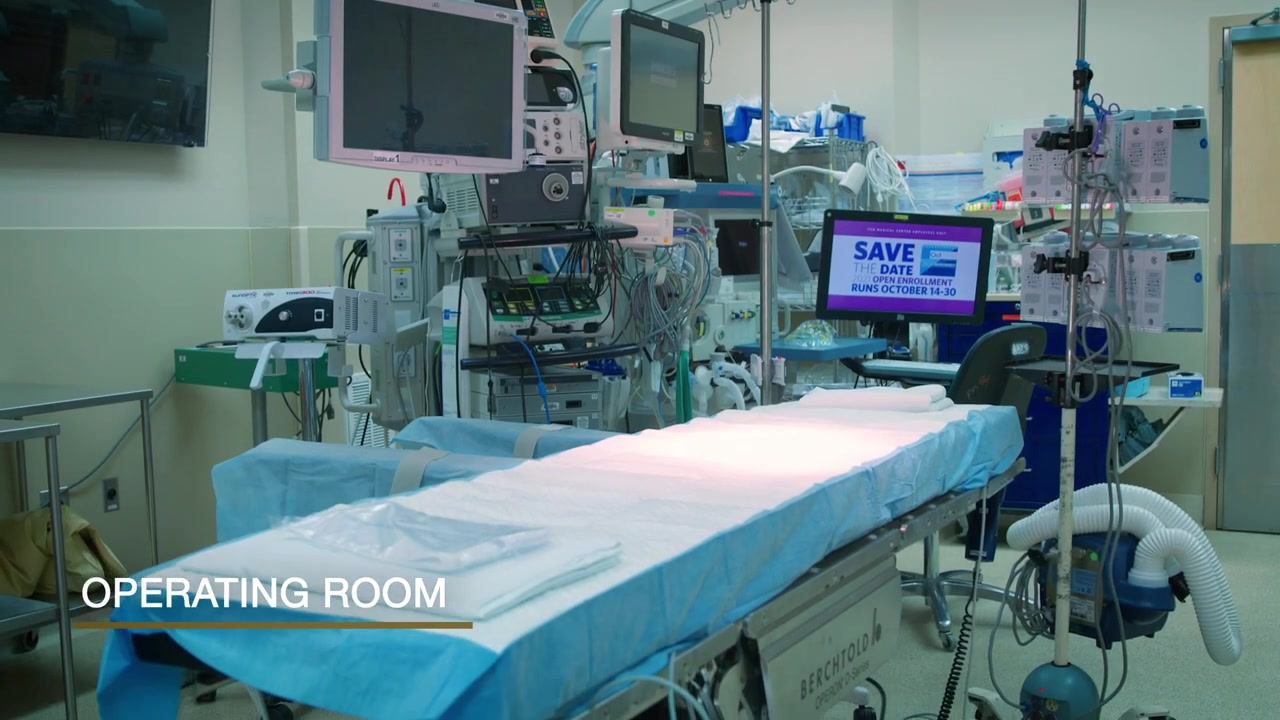TV: (1, 1, 214, 150)
bedside_monitor: (313, 1, 526, 178), (820, 207, 993, 322), (610, 13, 703, 155), (687, 108, 736, 187)
chair: (943, 326, 1046, 413)
electrosurgical_unit: (459, 274, 606, 345)
infusion_pump: (1025, 106, 1209, 205), (1020, 235, 1205, 332)
iv_pole: (1054, 1, 1089, 666), (750, 1, 792, 402)
operating_bed: (97, 387, 1024, 720)
table: (1, 391, 158, 706)
